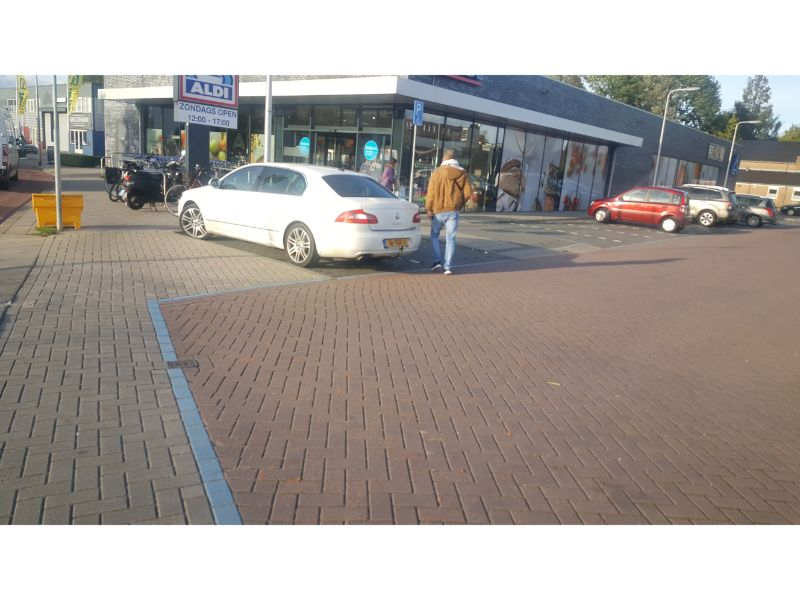kenteken: (382, 234, 413, 249)
